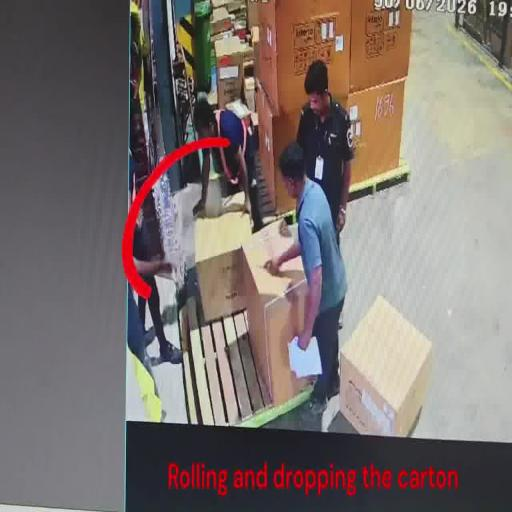carton: (236, 221, 316, 407), (338, 292, 435, 438), (255, 78, 345, 220), (246, 0, 352, 114), (344, 75, 408, 190), (192, 208, 250, 326), (352, 0, 412, 91), (176, 180, 248, 227)
pallet: (178, 300, 275, 426), (348, 162, 418, 211)
person: (263, 141, 347, 419), (295, 59, 355, 233), (192, 97, 264, 234), (131, 188, 183, 372)
